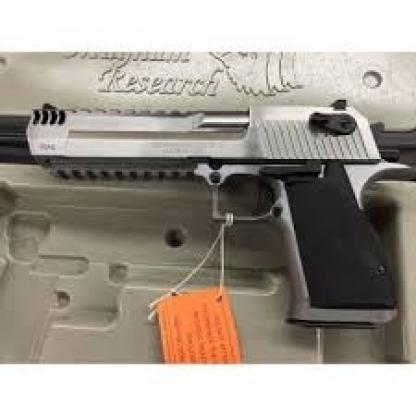Pistol: (22, 98, 408, 328)
